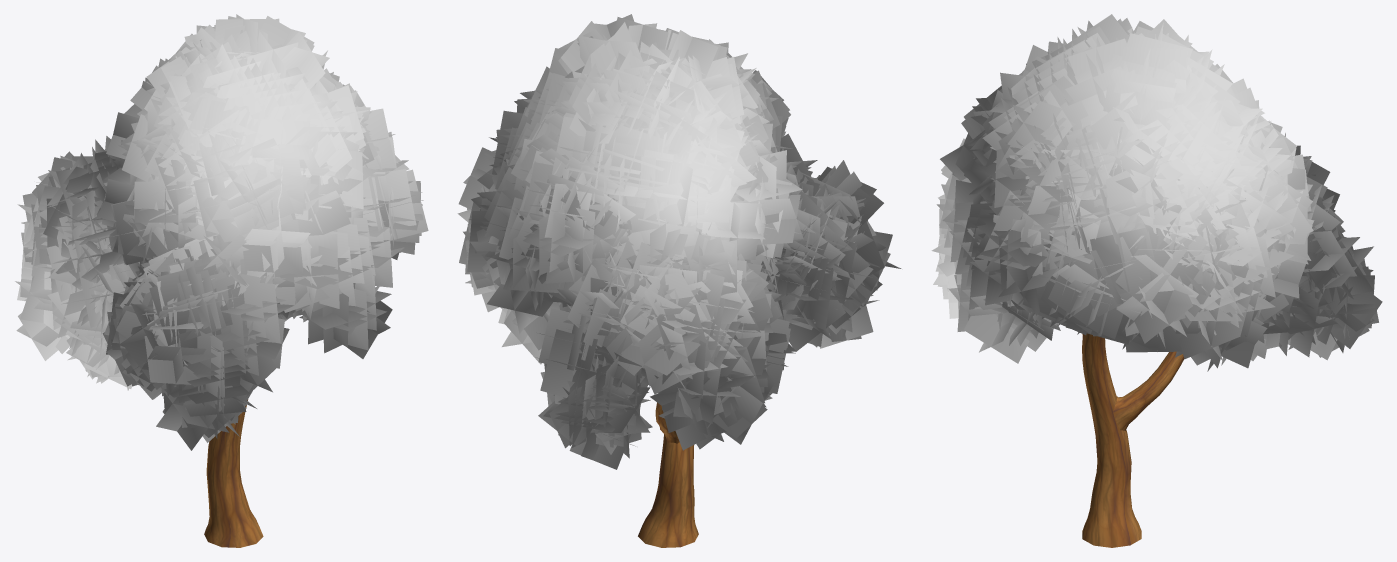
File: Arvore_02.fbx
3 renders of one model, left to right at view 1: azimuth 30°, elevation 25°; view 2: azimuth 150°, elevation 25°; view 3: azimuth 270°, elevation 25°, orthographic. The views are drawn at different scales.
Visible parts, largest first — view 1: Arvore_2_LOD0; view 2: Arvore_2_LOD0; view 3: Arvore_2_LOD0.
Boxes of the visible parts, x1,y1,x2,y2 form: Arvore_2_LOD0: [15, 14, 428, 547]; Arvore_2_LOD0: [457, 14, 901, 547]; Arvore_2_LOD0: [931, 14, 1382, 547].
Size of what is drawn, in the model's own units: 558 by 775 by 610.
